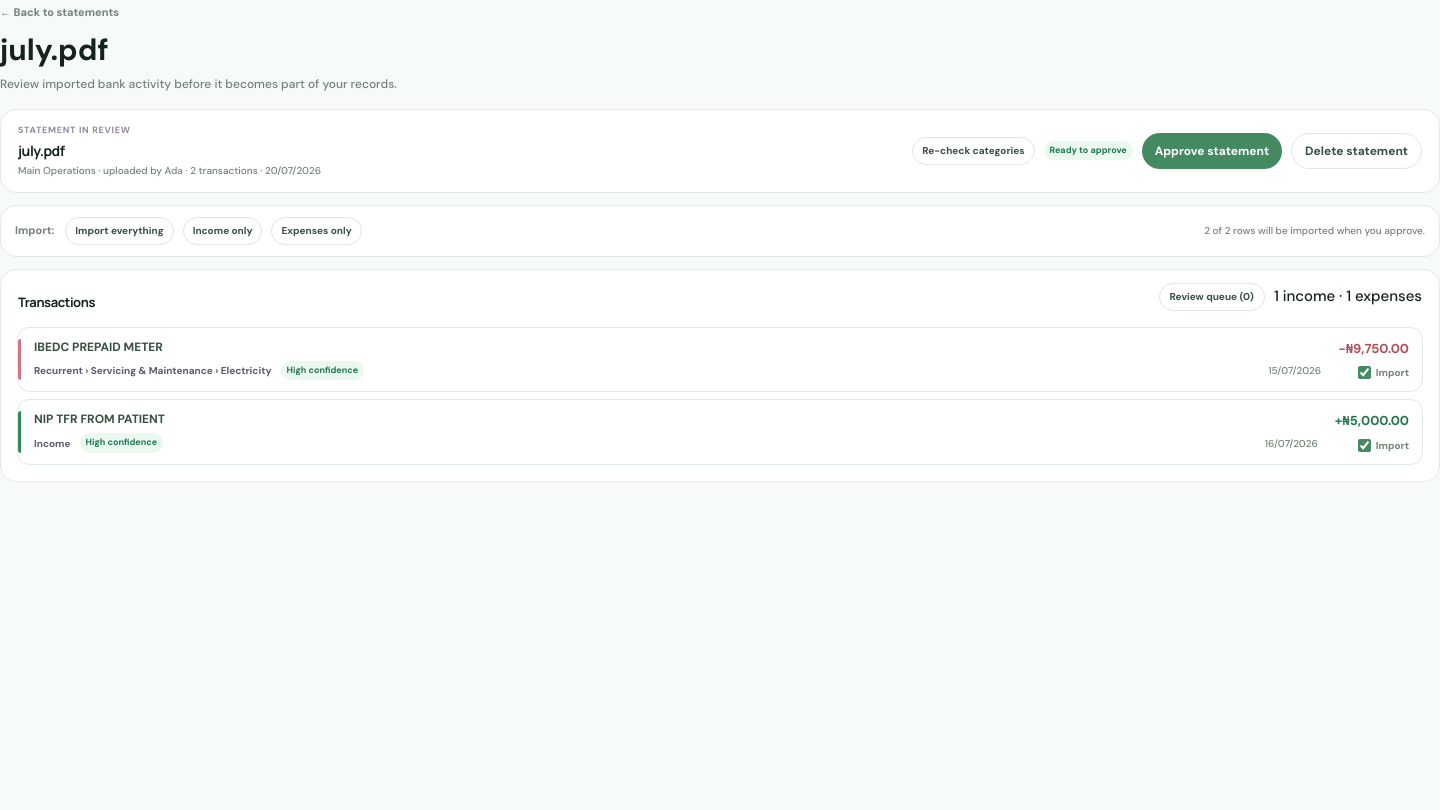
Scenario: category selects disappear once a row is treated as income
Click the text "NIP TFR FROM PATIENT".
click(100, 419)  # box [34,411,165,427]
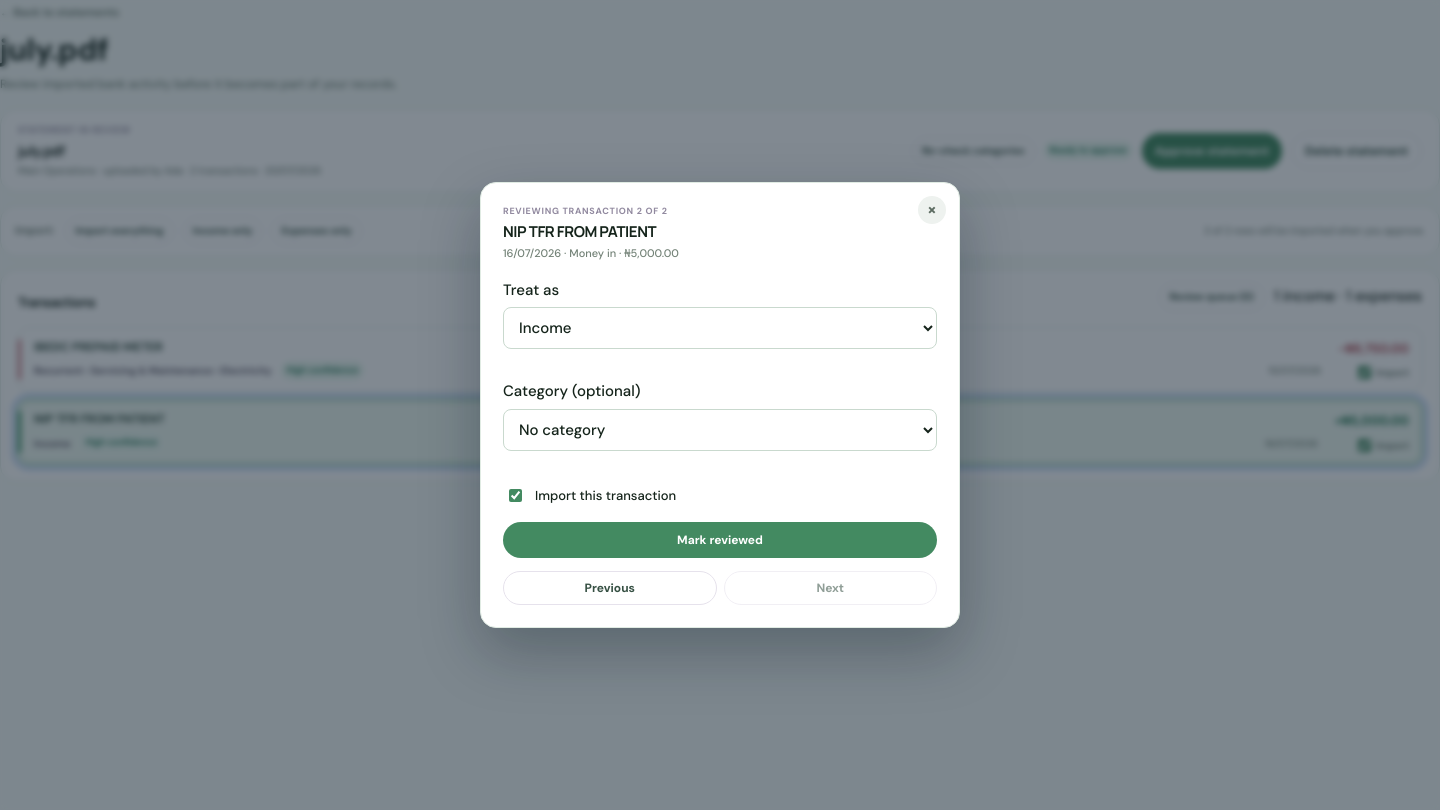
Expected: the dropdown labelled "Treat as" shows "Income", [503,307,937,349]
